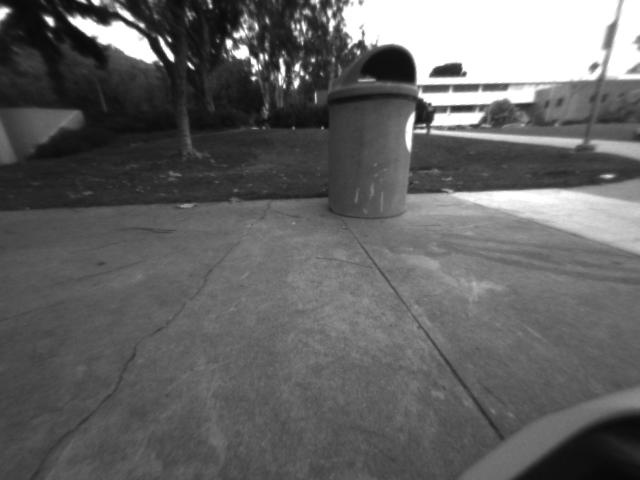trashcan: (314, 35, 432, 233)
